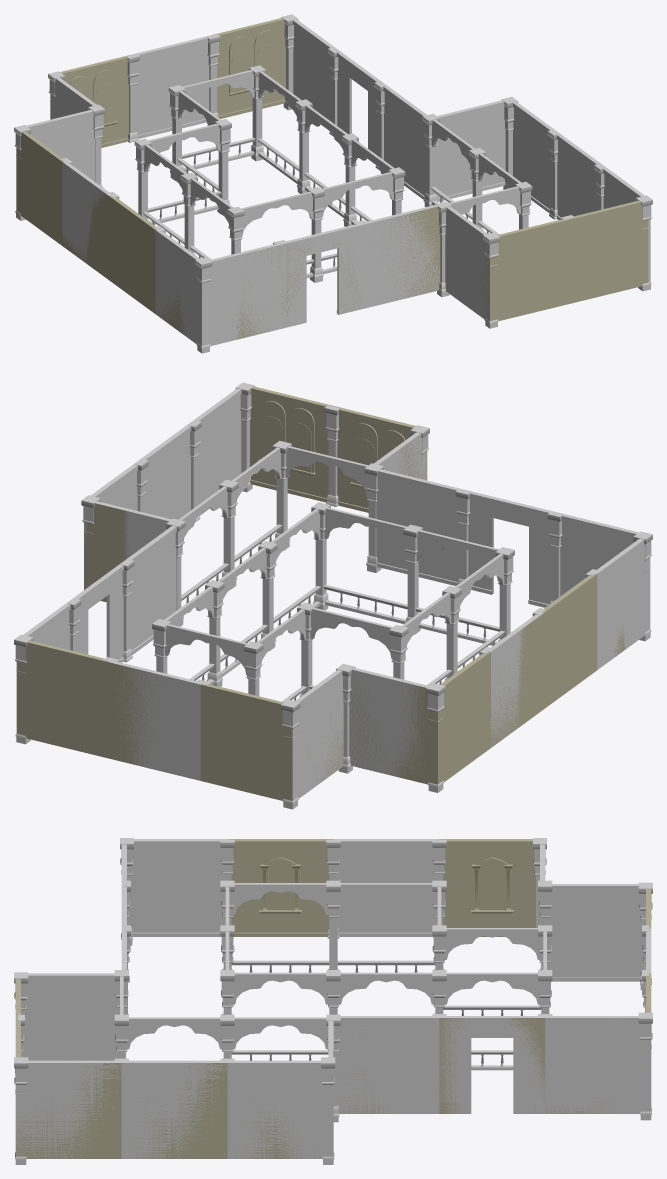
The model's file is Homeworld_Interior_Md_Room_F_Wall_01_Vo.fbx.
3 renders of one model, top to bottom at view 1: azimuth 30°, elevation 25°; view 2: azimuth 150°, elevation 25°; view 3: azimuth 270°, elevation 25°, orthographic. The views are drawn at different scales.
Parts seen in each view (by area): view 1: Homeworld_Interior_Md_Room_Wall_01_Vo (×12), Homeworld_Interior_Md_Room_F_Filling_01_Vo, Homeworld_Interior_Md_Room_Pillar_01_Vo (×19), Homeworld_Interior_Md_Room_Wall_05_Vo (×12), Homeworld_Interior_Md_Room_Wall_02_Vo (×2), Homeworld_Interior_Md_Room_Wall_06_Vo (×2), Homeworld_Interior_Md_Room_Wall_01_Vo (1), Homeworld_Interior_Md_Room_Wall_01_Vo (3), Homeworld_Interior_Md_Room_Pillar_02_Vo (×5), Homeworld_Interior_Md_Room_Wall_03_Vo (×2), Homeworld_Interior_Md_Room_Wall_04_Vo; view 2: Homeworld_Interior_Md_Room_Wall_01_Vo (×12), Homeworld_Interior_Md_Room_F_Filling_01_Vo, Homeworld_Interior_Md_Room_Pillar_01_Vo (×18), Homeworld_Interior_Md_Room_Wall_05_Vo (×12), Homeworld_Interior_Md_Room_Wall_02_Vo (×2), Homeworld_Interior_Md_Room_Wall_06_Vo (×2), Homeworld_Interior_Md_Room_Wall_01_Vo (1), Homeworld_Interior_Md_Room_Pillar_02_Vo (×5), Homeworld_Interior_Md_Room_Wall_03_Vo (×2), Homeworld_Interior_Md_Room_Wall_01_Vo (3), Homeworld_Interior_Md_Room_Wall_04_Vo; view 3: Homeworld_Interior_Md_Room_Wall_01_Vo (×8), Homeworld_Interior_Md_Room_Wall_03_Vo (×2), Homeworld_Interior_Md_Room_F_Filling_01_Vo, Homeworld_Interior_Md_Room_Wall_05_Vo (×8), Homeworld_Interior_Md_Room_Pillar_01_Vo (×16), Homeworld_Interior_Md_Room_Wall_01_Vo (3), Homeworld_Interior_Md_Room_Wall_06_Vo, Homeworld_Interior_Md_Room_Pillar_02_Vo (×3).
Boxes of the visible parts, <box> form: Homeworld_Interior_Md_Room_Wall_01_Vo (×12): <box>26,19,650,345</box>; Homeworld_Interior_Md_Room_F_Filling_01_Vo: <box>16,132,648,339</box>; Homeworld_Interior_Md_Room_Pillar_01_Vo (×19): <box>88,14,532,353</box>; Homeworld_Interior_Md_Room_Wall_05_Vo (×12): <box>143,70,521,278</box>; Homeworld_Interior_Md_Room_Wall_02_Vo (×2): <box>60,18,285,147</box>; Homeworld_Interior_Md_Room_Wall_06_Vo (×2): <box>281,49,383,328</box>; Homeworld_Interior_Md_Room_Wall_01_Vo (1): <box>131,35,211,138</box>; Homeworld_Interior_Md_Room_Wall_01_Vo (3): <box>445,206,489,320</box>; Homeworld_Interior_Md_Room_Pillar_02_Vo (×5): <box>126,34,558,219</box>; Homeworld_Interior_Md_Room_Wall_03_Vo (×2): <box>22,131,156,280</box>; Homeworld_Interior_Md_Room_Wall_04_Vo: <box>448,186,520,214</box>; Homeworld_Interior_Md_Room_Wall_01_Vo (×12): <box>23,388,650,800</box>; Homeworld_Interior_Md_Room_F_Filling_01_Vo: <box>16,436,625,800</box>; Homeworld_Interior_Md_Room_Pillar_01_Vo (×18): <box>152,382,514,809</box>; Homeworld_Interior_Md_Room_Wall_05_Vo (×12): <box>164,447,505,702</box>; Homeworld_Interior_Md_Room_Wall_02_Vo (×2): <box>250,386,426,512</box>; Homeworld_Interior_Md_Room_Wall_06_Vo (×2): <box>70,490,557,662</box>; Homeworld_Interior_Md_Room_Wall_01_Vo (1): <box>109,661,201,780</box>; Homeworld_Interior_Md_Room_Pillar_02_Vo (×5): <box>121,405,563,662</box>; Homeworld_Interior_Md_Room_Wall_03_Vo (×2): <box>435,573,596,784</box>; Homeworld_Interior_Md_Room_Wall_01_Vo (3): <box>374,432,427,480</box>; Homeworld_Interior_Md_Room_Wall_04_Vo: <box>285,446,368,497</box>; Homeworld_Interior_Md_Room_Wall_01_Vo (×8): <box>15,839,651,1158</box>; Homeworld_Interior_Md_Room_Wall_03_Vo (×2): <box>227,839,535,936</box>; Homeworld_Interior_Md_Room_F_Filling_01_Vo: <box>15,1018,630,1158</box>; Homeworld_Interior_Md_Room_Wall_05_Vo (×8): <box>126,883,541,1070</box>; Homeworld_Interior_Md_Room_Pillar_01_Vo (×16): <box>14,838,652,1164</box>; Homeworld_Interior_Md_Room_Wall_01_Vo (3): <box>25,973,117,1060</box>; Homeworld_Interior_Md_Room_Wall_06_Vo: <box>439,1016,545,1113</box>; Homeworld_Interior_Md_Room_Pillar_02_Vo (×3): <box>220,839,446,938</box>.
Size of what is drawn, in the model's own units: 25.17 by 5.34 by 30.17.
